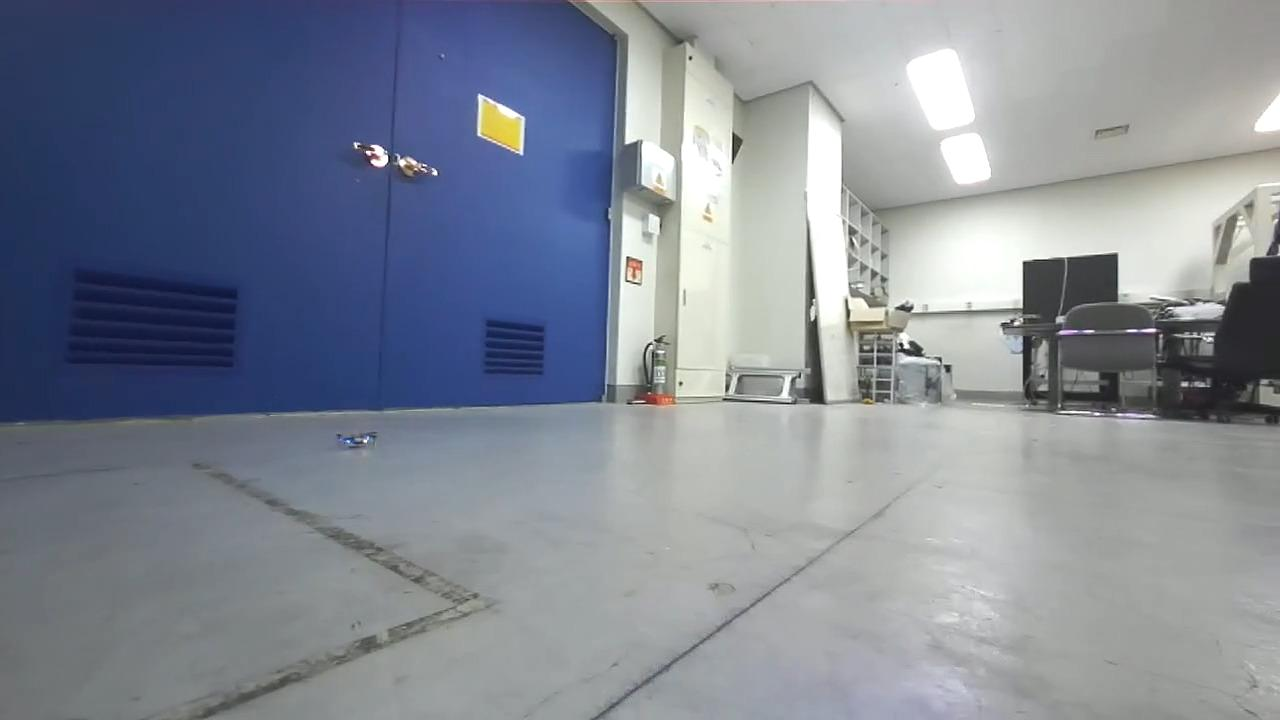crazyflie: (331, 425, 381, 455)
